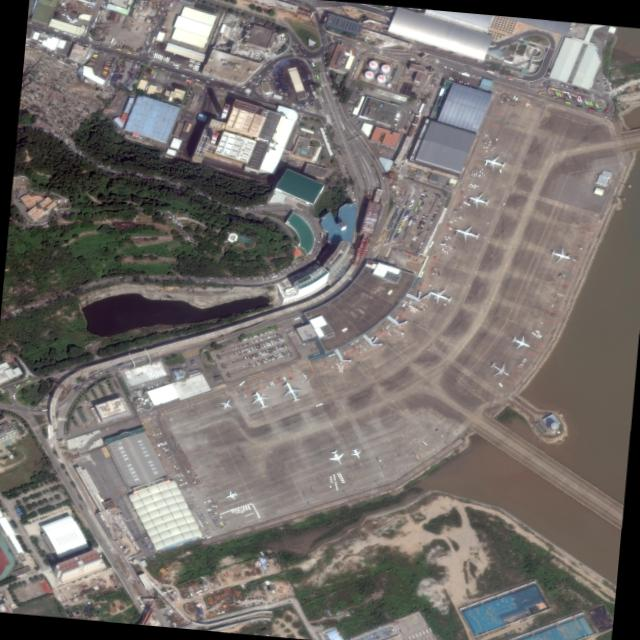plane: (481, 355, 519, 384), (449, 219, 486, 247), (423, 284, 458, 310), (276, 378, 307, 406), (464, 188, 495, 215), (545, 242, 576, 268), (481, 150, 511, 176), (505, 330, 536, 355), (246, 389, 274, 412), (324, 446, 348, 467), (346, 444, 367, 462), (216, 394, 236, 412), (220, 487, 241, 504)
storage-tank: (362, 70, 375, 81), (367, 59, 379, 70), (380, 63, 391, 74), (376, 74, 387, 84), (550, 422, 560, 430), (386, 82, 392, 87)
